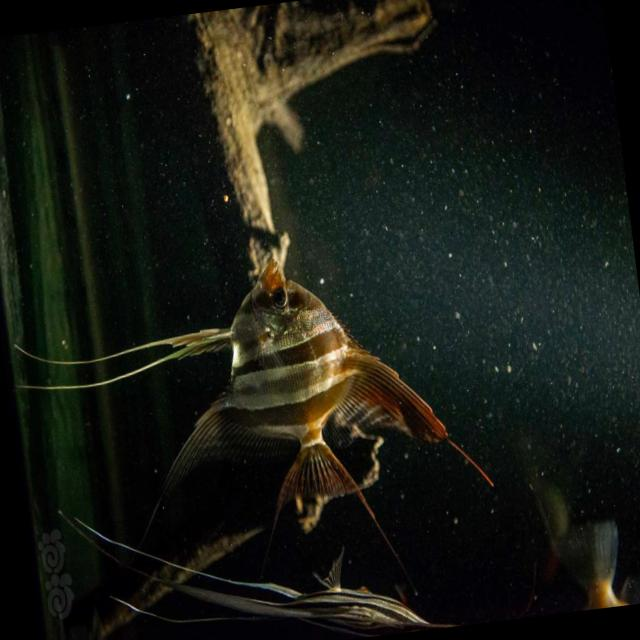AngelFish: (12, 248, 495, 562)
